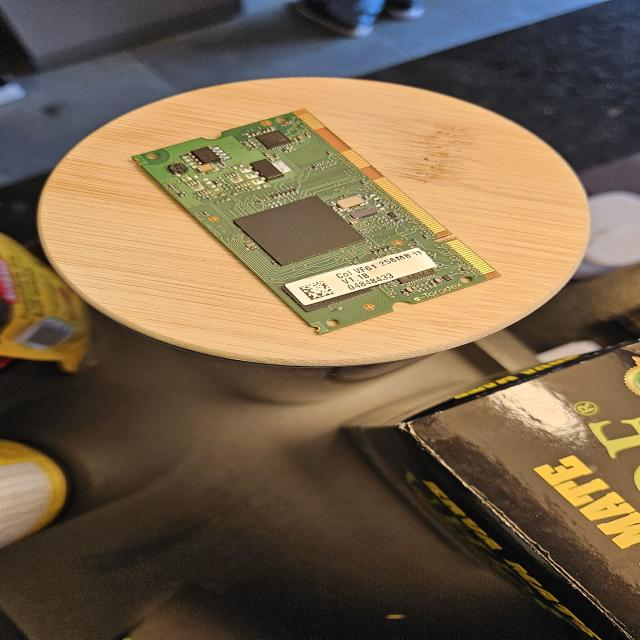som: (125, 103, 511, 346)
